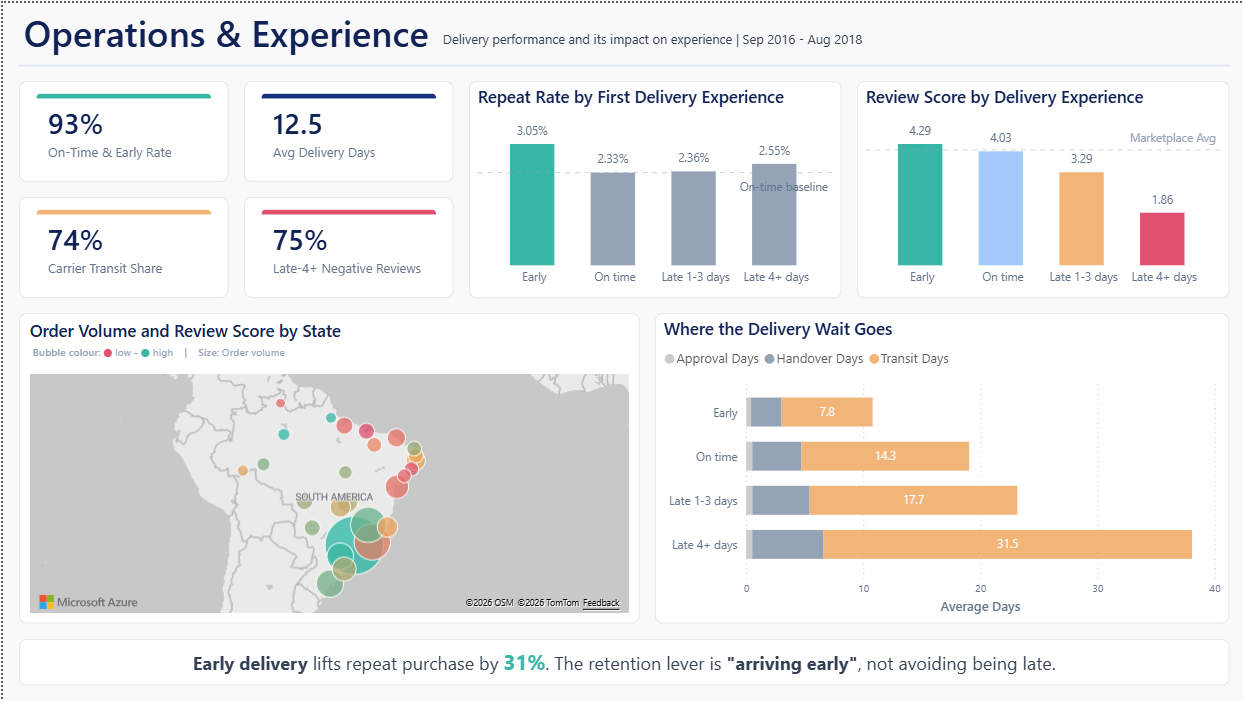

The dashboard page shown, as its layout file describes it:
{"tool":"powerbi","page":{"name":"Operations & Experience","canvas":[1280,720],"ordinal":3},"visuals":[{"type":"textbox","box":[16,0,432,64],"z":0},{"type":"azureMap","title":"Order Volume and Review Score by State","fields":{"Category":["agg_state_performance.state_geo"],"Size":["All Measures.Total Orders"]},"box":[16,320,640,320],"z":0,"group":"g1"},{"type":"textbox","box":[448,24,448,32],"z":1000},{"type":"textbox","box":[25,345.7,504.8,29.1],"z":1000,"group":"g1"},{"type":"shape","box":[16,48,1248,32],"z":2000},{"type":"cardVisual","fields":{"Data":["All Measures.On-Time or Early Rate"]},"box":[16,80,216,104],"z":3000},{"type":"cardVisual","fields":{"Data":["All Measures.Avg Delivery Days (Weighted)"]},"box":[248,80,216,104],"z":4000},{"type":"cardVisual","fields":{"Data":["All Measures.Carrier Transit Share"]},"box":[16,200,216,104],"z":5000},{"type":"cardVisual","fields":{"Data":["Sum(agg_review_by_delivery_bucket.% Negative)"]},"box":[248,200,216,104],"z":6000},{"type":"clusteredColumnChart","title":"Repeat Rate by First Delivery Experience","fields":{"Category":["agg_repeat_by_first_delivery.First Delivery Bucket"],"Y":["Sum(agg_repeat_by_first_delivery.Repeat Rate)"]},"box":[480,80,384,224],"z":7000},{"type":"clusteredColumnChart","title":"Review Score by Delivery Experience","fields":{"Category":["agg_review_by_delivery_bucket.Delivery Bucket"],"Y":["Avg(agg_review_by_delivery_bucket.Avg Review)"]},"box":[880,80,384,224],"z":8000},{"type":"group","id":"g1","title":"Group 1","box":[16,320,640,320],"z":9000},{"type":"barChart","title":"Where the Delivery Wait Goes","fields":{"Category":["agg_delivery_decomposition.Delivery Bucket"],"Series":["agg_delivery_decomposition.Phase"],"Y":["Sum(agg_delivery_decomposition.Days)"]},"box":[672,320,592,320],"z":10000},{"type":"textbox","box":[16,656,1248,48],"z":11000}]}

Visuals, with their boxes in screenshot pixels (x1, y1, x2, y2), scaled from the page's 1280x720 canvas onto the 1243x701 screenshot:
textbox: bbox=(16, 0, 435, 62)
"Order Volume and Review Score by State" azureMap: bbox=(16, 312, 637, 623)
textbox: bbox=(435, 23, 870, 55)
textbox: bbox=(24, 337, 514, 365)
shape: bbox=(16, 47, 1227, 78)
cardVisual - All Measures.On-Time or Early Rate: bbox=(16, 78, 225, 179)
cardVisual - All Measures.Avg Delivery Days (Weighted): bbox=(241, 78, 451, 179)
cardVisual - All Measures.Carrier Transit Share: bbox=(16, 195, 225, 296)
cardVisual - Sum(agg_review_by_delivery_bucket.% Negative): bbox=(241, 195, 451, 296)
"Repeat Rate by First Delivery Experience" clusteredColumnChart: bbox=(466, 78, 839, 296)
"Review Score by Delivery Experience" clusteredColumnChart: bbox=(855, 78, 1227, 296)
"Group 1" group: bbox=(16, 312, 637, 623)
"Where the Delivery Wait Goes" barChart: bbox=(653, 312, 1227, 623)
textbox: bbox=(16, 639, 1227, 685)
